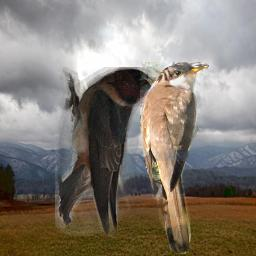Cuckoo: (140, 62, 209, 254)
Swallow: (55, 67, 158, 236)
